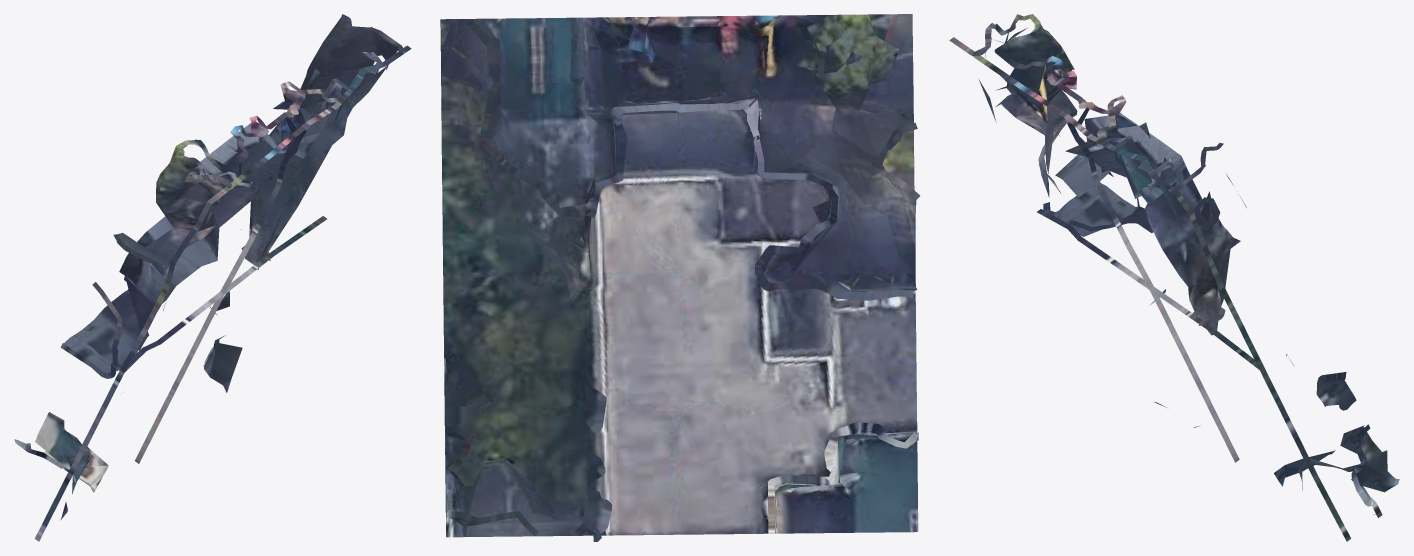
3 views of the same model, side by side, from view 1: azimuth 30°, elevation 25°; view 2: azimuth 150°, elevation 25°; view 3: azimuth 270°, elevation 25° (orthographic). The views are drawn at different scales.
Size of the model in its own units: 39.27 by 37.15 by 36.08.
2 materials, 2 textured.
